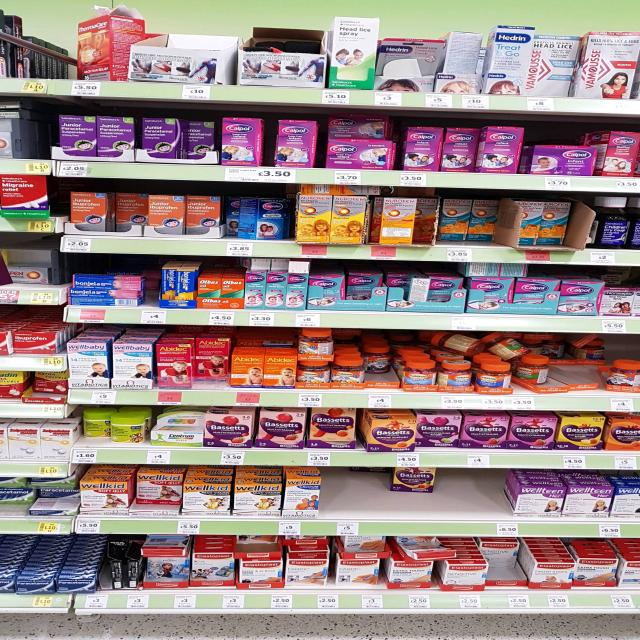void: (441, 469, 507, 535), (324, 468, 382, 536)
